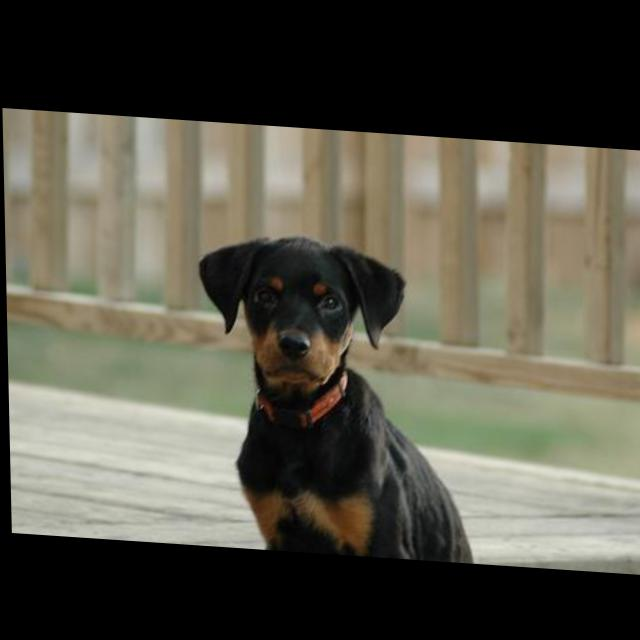other_dog_breed: (195, 224, 478, 559)
